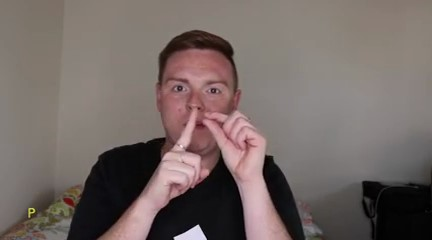P: (149, 104, 268, 213)
